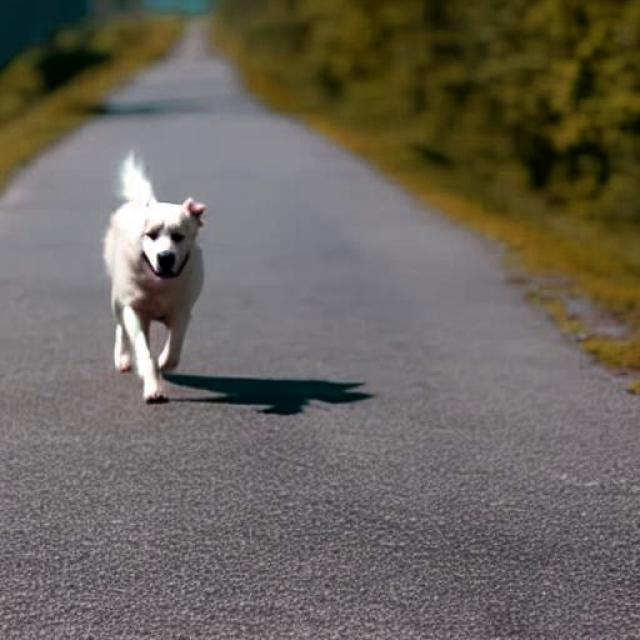Dog: (104, 156, 207, 405)
